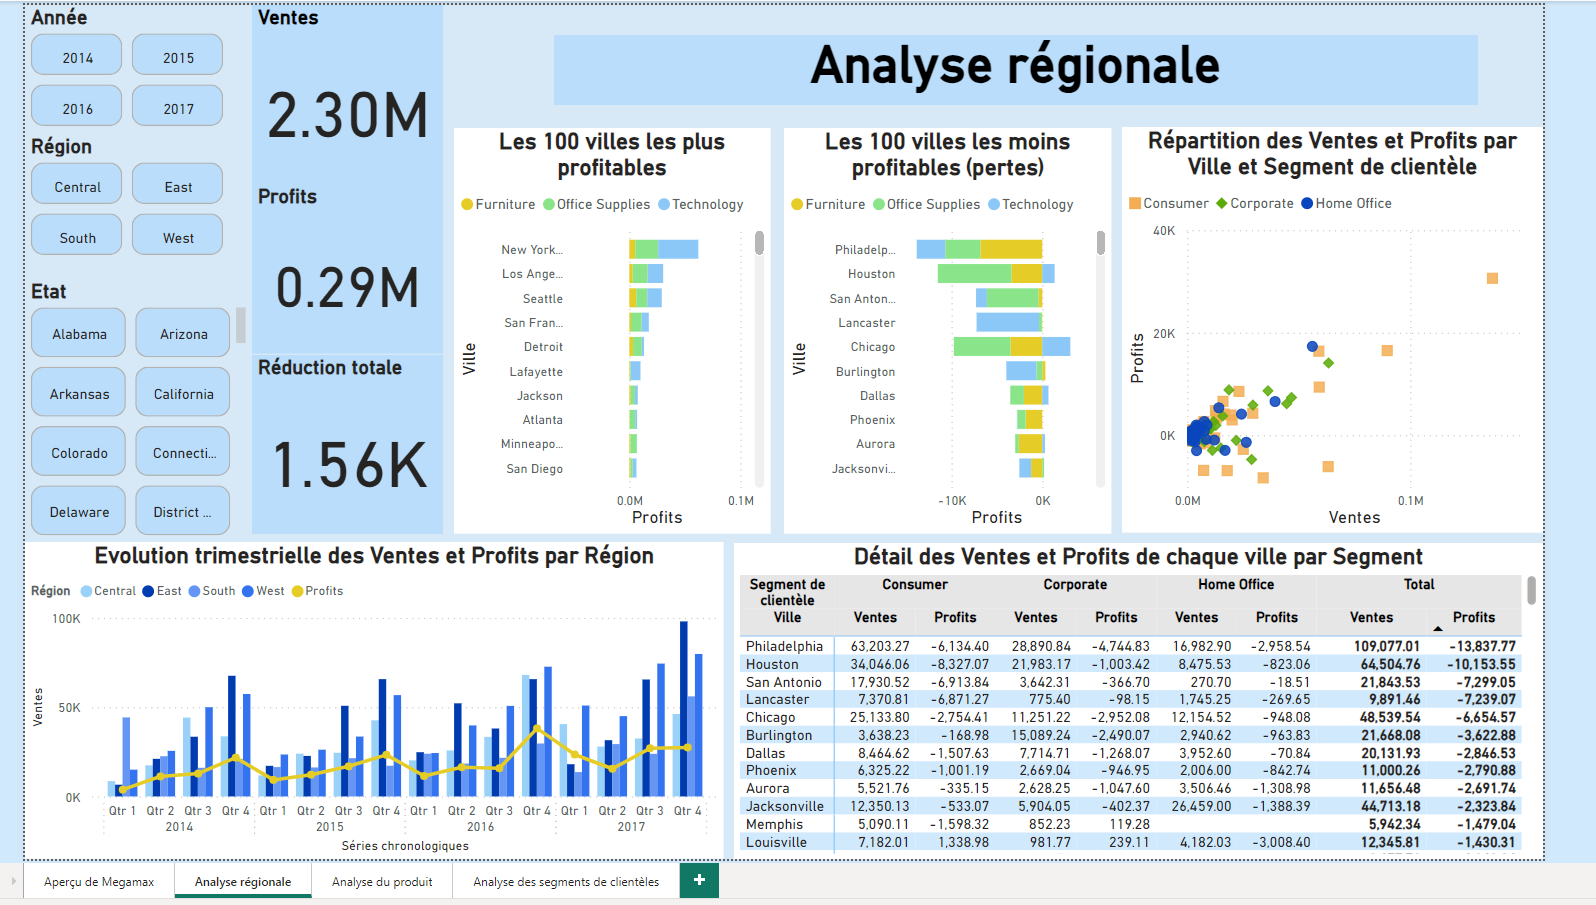

The page's visual inventory and layout, read from the dashboard file:
{"tool":"powerbi","page":{"name":"Analyse régionale","canvas":[1280,720],"ordinal":1},"visuals":[{"type":"lineClusteredColumnComboChart","title":"Evolution trimestrielle des Ventes et Profits par Région","fields":{"Series":["Sample - MegaMax.Region"],"Y":["Sum(Sample - MegaMax.Sales)"],"Category":["Sample - MegaMax.Order Date.Variation.Date Hierarchy.Year","Sample - MegaMax.Order Date.Variation.Date Hierarchy.Quarter"],"Y2":["Sum(Sample - MegaMax.Profit)"]},"box":[0,452.8,589.1,266.5],"z":0},{"type":"textbox","title":"Analyse régionale","box":[445.9,25,778.9,58.7],"z":1000},{"type":"advancedSlicerVisual","title":"Région","fields":{"Values":["Sample - MegaMax.Region"]},"box":[0,108.7,172.5,107.8],"z":2000},{"type":"advancedSlicerVisual","title":"Etat","fields":{"Values":["Sample - MegaMax.State"]},"box":[0,231,191.4,222.6],"z":3000},{"type":"barChart","title":"Les 100 villes les plus  profitables","fields":{"Category":["Sample - MegaMax.City"],"Series":["Sample - MegaMax.Category"],"Y":["Sum(Sample - MegaMax.Profit)"]},"box":[361.4,103.5,266.5,341.6],"z":4000},{"type":"card","title":"Ventes","fields":{"Values":["Sum(Sample - MegaMax.Sales)"]},"box":[191.5,0,161.3,150.9],"z":5000},{"type":"card","title":"Profits","fields":{"Values":["Sum(Sample - MegaMax.Profit)"]},"box":[191.5,150.9,161.3,143.2],"z":6000},{"type":"card","title":"Réduction totale","fields":{"Values":["Sum(Sample - MegaMax.Discount)"]},"box":[191.5,295,161.3,150.9],"z":7000},{"type":"advancedSlicerVisual","title":"Année","fields":{"Values":["Sample - MegaMax.Order Date.Variation.Date Hierarchy.Year"]},"box":[0,0,172.5,108.7],"z":8000},{"type":"barChart","title":"Les 100 villes les moins profitables (pertes)","fields":{"Category":["Sample - MegaMax.City"],"Y":["Sum(Sample - MegaMax.Profit)"],"Series":["Sample - MegaMax.Category"]},"box":[640,103.5,276,341.6],"z":9000},{"type":"pivotTable","title":"Détail des Ventes et Profits de chaque ville par Segment","fields":{"Rows":["Sample - MegaMax.City"],"Values":["Sum(Sample - MegaMax.Sales)","Sum(Sample - MegaMax.Profit)"],"Columns":["Sample - MegaMax.Segment"]},"box":[597.7,453.7,682.3,266.5],"z":10000},{"type":"scatterChart","title":"Répartition des Ventes et Profits par Ville et Segment de clientèle","fields":{"X":["Sum(Sample - MegaMax.Sales)"],"Y":["Sum(Sample - MegaMax.Profit)"],"Category":["Sample - MegaMax.City"],"Series":["Sample - MegaMax.Segment"]},"box":[925,103.1,355,342.4],"z":11000}]}

Visuals, with their boxes on the page's 1280x720 design canvas (x1, y1, x2, y2). These are canvas units, not pixel positions in the 1596x905 screenshot, which may show the page scaled, cropped or inside an application window:
"Evolution trimestrielle des Ventes et Profits par Région" lineClusteredColumnComboChart: Rect(0, 453, 589, 719)
"Analyse régionale" textbox: Rect(446, 25, 1225, 84)
"Région" advancedSlicerVisual: Rect(0, 109, 172, 216)
"Etat" advancedSlicerVisual: Rect(0, 231, 191, 454)
"Les 100 villes les plus  profitables" barChart: Rect(361, 104, 628, 445)
"Ventes" card: Rect(192, 0, 353, 151)
"Profits" card: Rect(192, 151, 353, 294)
"Réduction totale" card: Rect(192, 295, 353, 446)
"Année" advancedSlicerVisual: Rect(0, 0, 172, 109)
"Les 100 villes les moins profitables (pertes)" barChart: Rect(640, 104, 916, 445)
"Détail des Ventes et Profits de chaque ville par Segment" pivotTable: Rect(598, 454, 1280, 720)
"Répartition des Ventes et Profits par Ville et Segment de clientèle" scatterChart: Rect(925, 103, 1280, 446)
